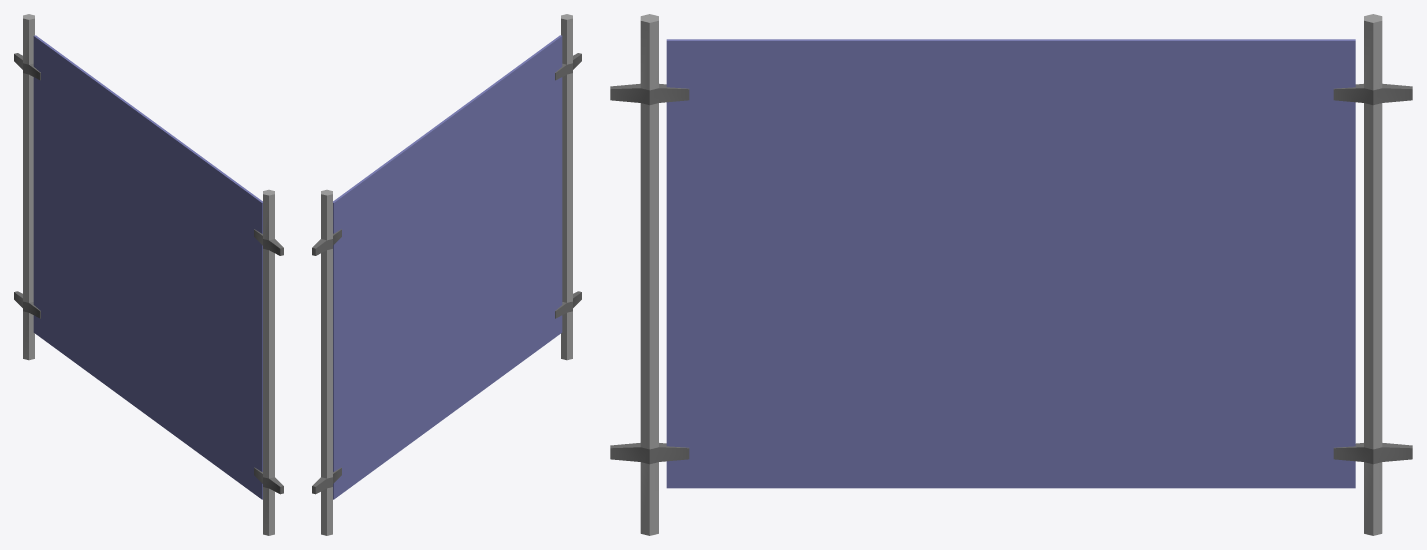
The model's file is Zabor_V3.fbx.
3 views of the same model, side by side, from view 1: azimuth 30°, elevation 25°; view 2: azimuth 150°, elevation 25°; view 3: azimuth 270°, elevation 25° (orthographic). The views are drawn at different scales.
Parts seen in each view (by area): view 1: Zabor_V3; view 2: Zabor_V3; view 3: Zabor_V3.
Boxes of the visible parts, x1,y1,x2,y2 form: Zabor_V3: [14, 14, 283, 535]; Zabor_V3: [312, 14, 581, 535]; Zabor_V3: [610, 14, 1412, 535].
Size of the model in its own units: 0.2088 by 5.59 by 7.92.
